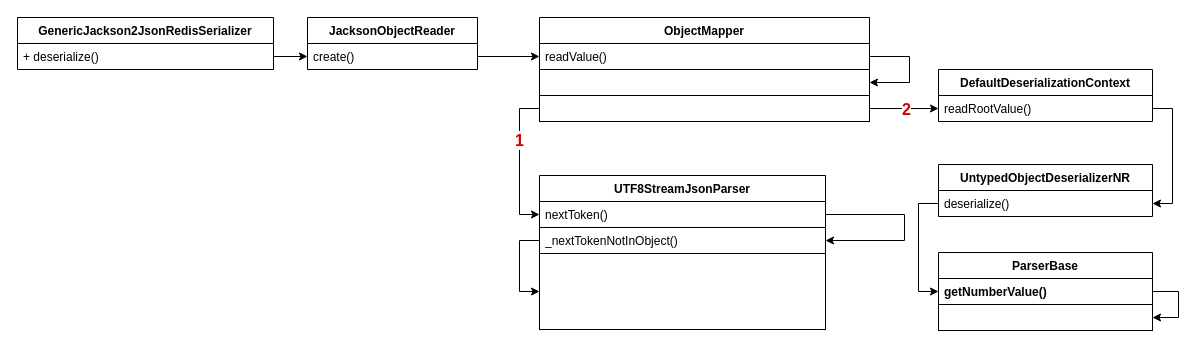
The diagram is 1204 pixels wide and 351 high, and some of its shapes have lost their labels. Here are the shapes that lost their labels. From the top down, the centre of each, then its label:
At [704,82]: "_readMapAndClose(JsonParser p0, JavaType valueType)".
At [704,108]: "_initForReading(JsonParser p, JavaType targetType)".
At [682,291]: "_parseUnsignedNumber() 判断JSON格式数字为整数还是浮点数 return JsonToken. VALUE_NUMBER_INT".
At [1045,317]: "_parseNumericValue()".
